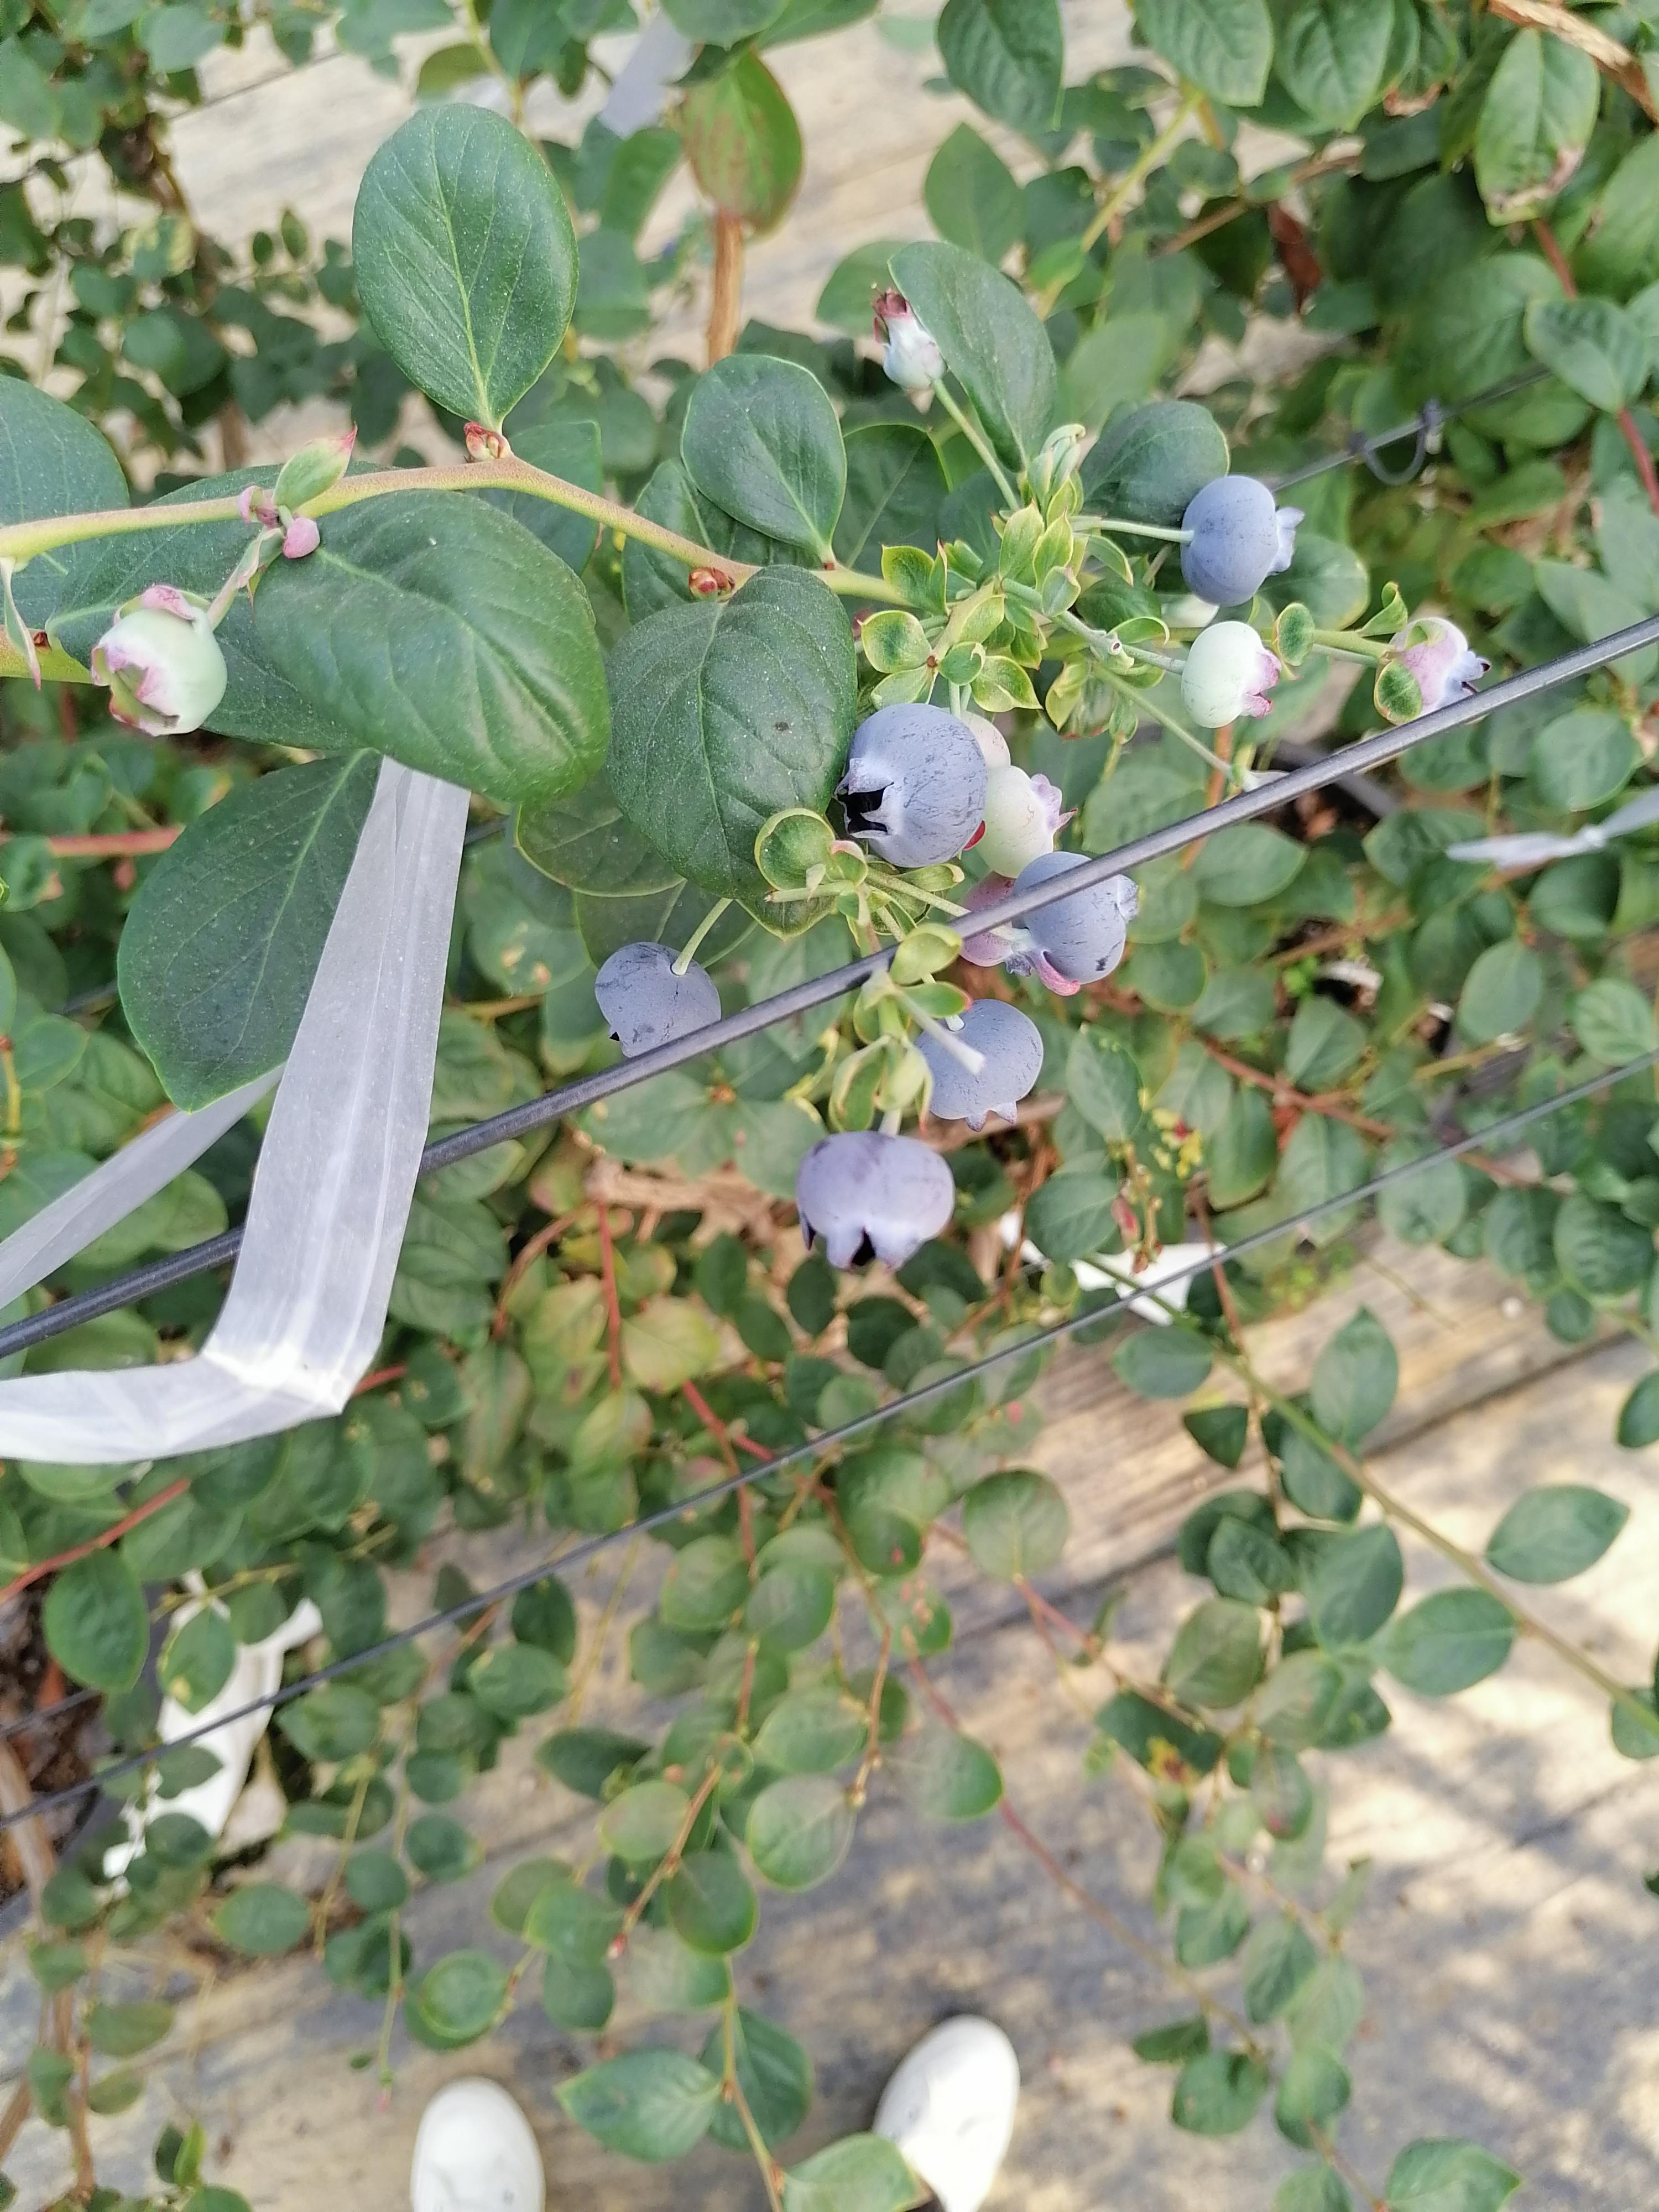ripe-blueberries: (835, 702, 986, 867), (796, 1130, 953, 1273), (908, 998, 1046, 1134), (1012, 850, 1141, 989), (1178, 472, 1307, 610), (594, 941, 721, 1059)
